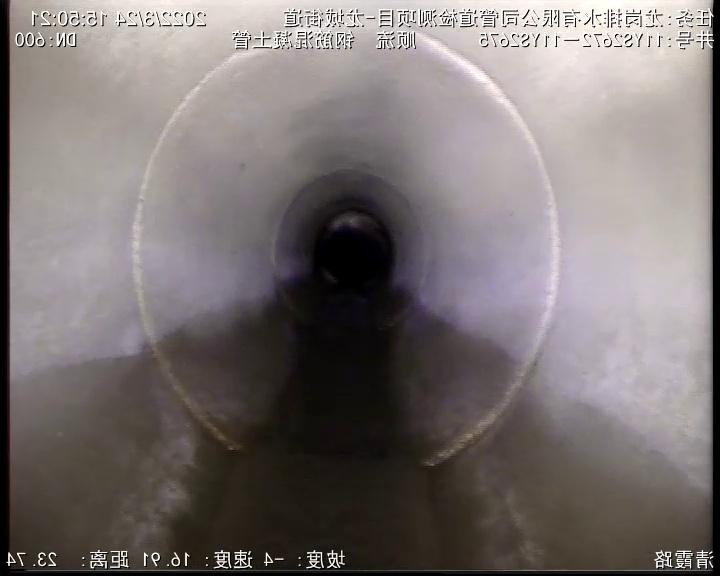CKTJ: (127, 16, 564, 466)
